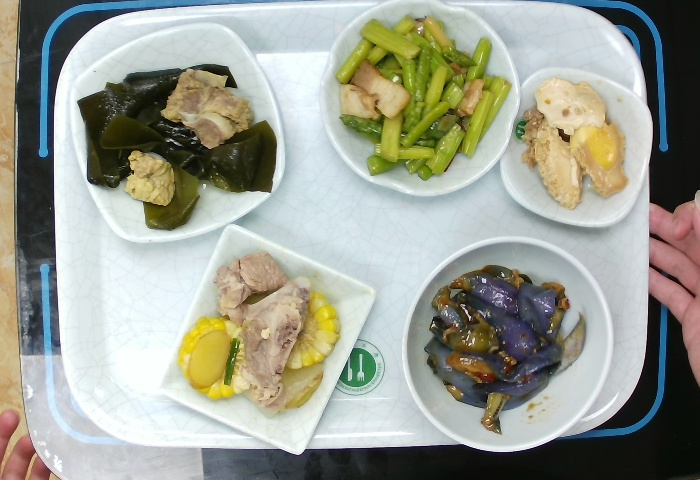JYsf-Ao_Yuan_Wan: (319, 1, 525, 205)
JYsf-Fan_Wan: (397, 231, 617, 454)
JYsf-Si_Fang_Die: (496, 63, 657, 232)
WCQzf-Da_Si_Fang_Die: (66, 21, 290, 247)
WCQzf-Ru_Ci_Si_Fang_Die: (161, 218, 377, 461)
